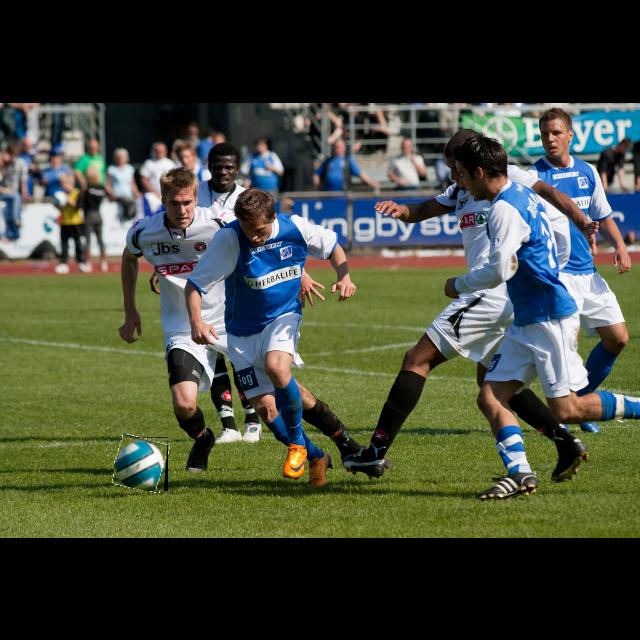Football: (114, 437, 168, 491)
